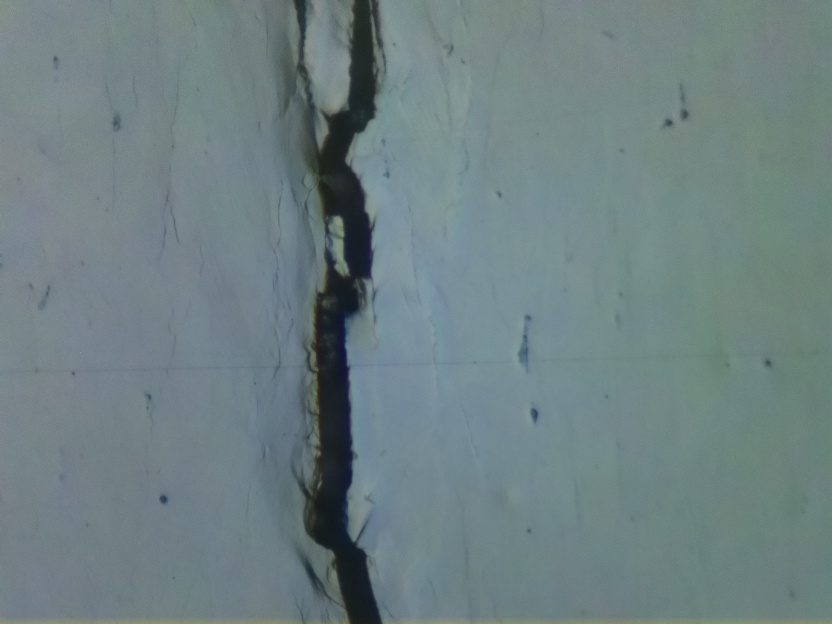crack: (289, 0, 384, 624)
